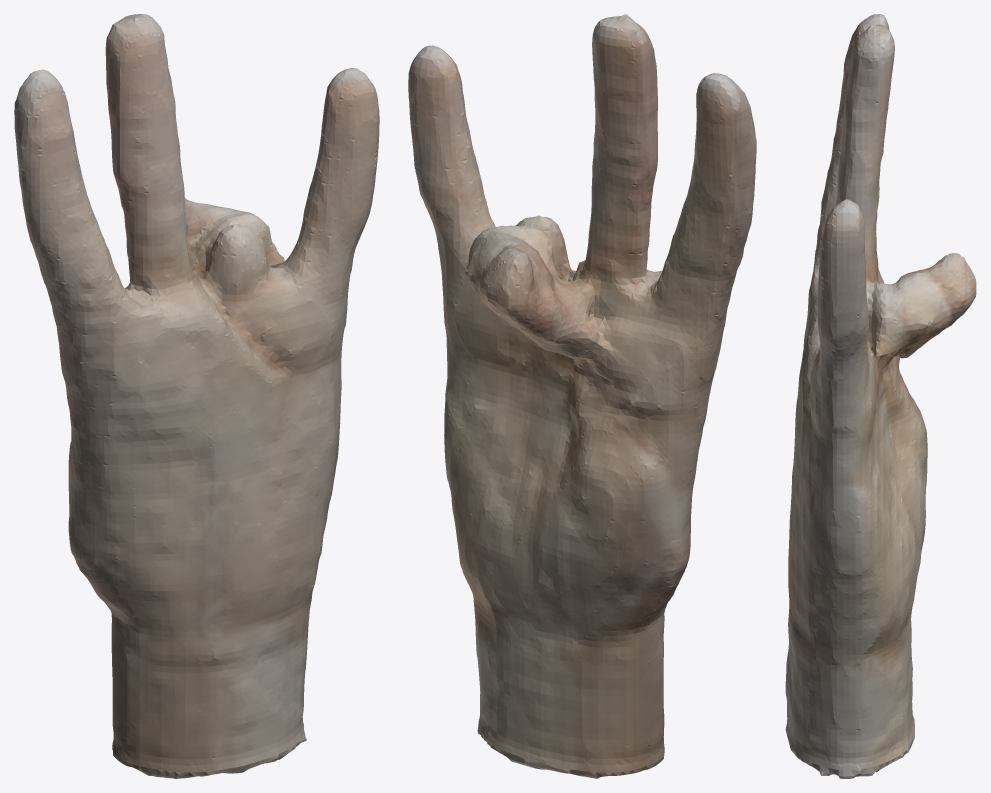
Rendered from ASL7.glb.
The picture shows the model from 3 angles, left to right: view 1: azimuth 30°, elevation 25°; view 2: azimuth 150°, elevation 25°; view 3: azimuth 270°, elevation 25°; orthographic projection. The views are drawn at different scales.
Parts seen in each view (by area): view 1: world; view 2: world; view 3: world.
Part boxes in pixels (bbox=[...]): world: bbox=[14, 14, 379, 778]; world: bbox=[408, 14, 756, 778]; world: bbox=[785, 14, 976, 778].
Bounding box in the file's own units: 0.9794 × 2.01 × 0.5067.
